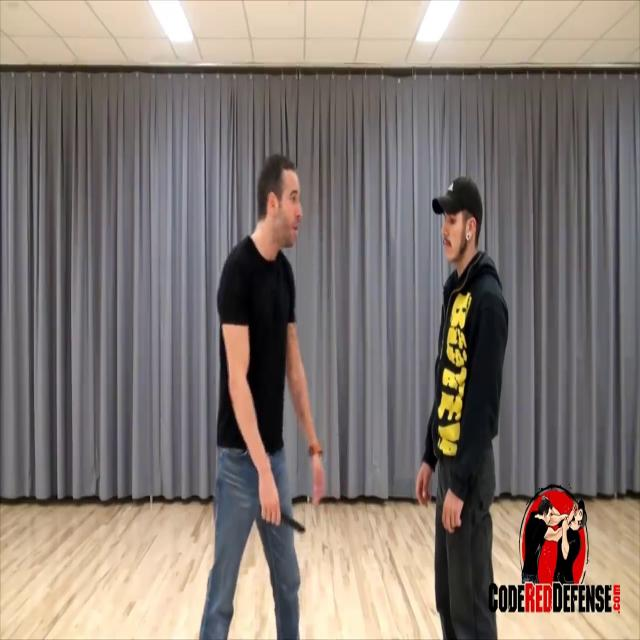Knife_Handle: (259, 480, 306, 534)
